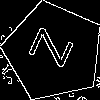Z: (28, 27, 83, 73)
